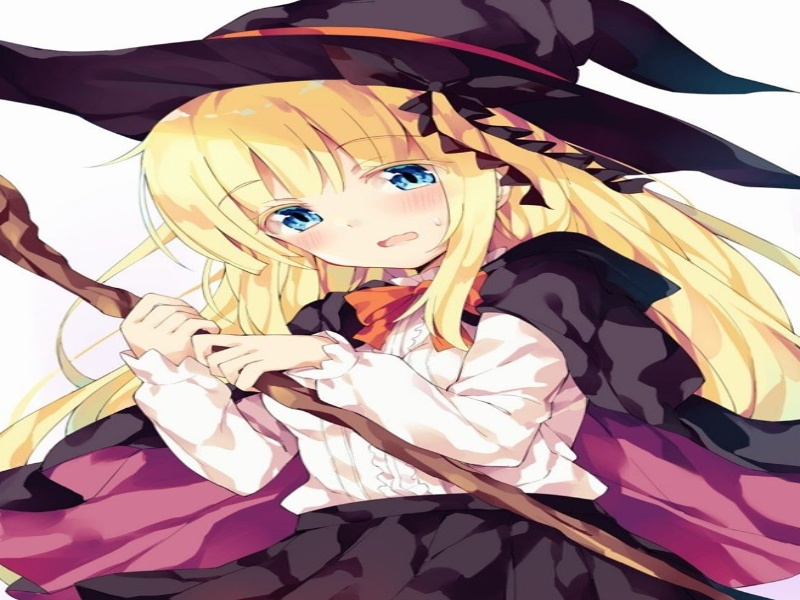person: (128, 87, 578, 288)
